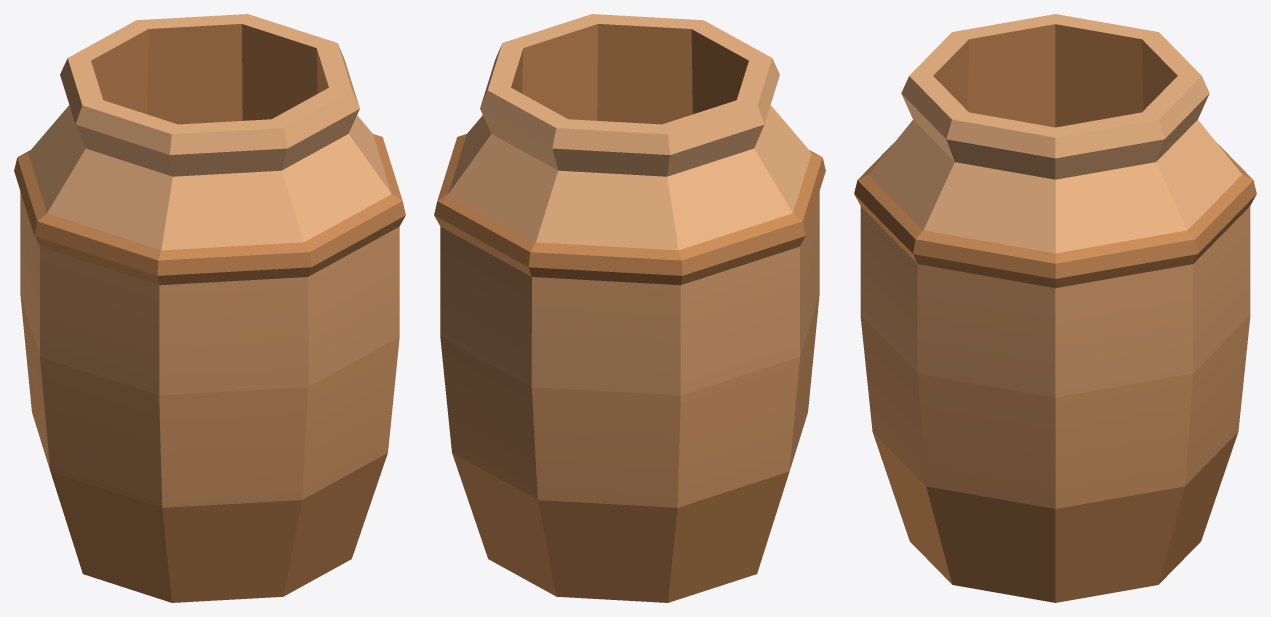
File: vase.fbx
3 views of the same model, side by side, from view 1: azimuth 30°, elevation 25°; view 2: azimuth 150°, elevation 25°; view 3: azimuth 270°, elevation 25° (orthographic).
Visible parts, largest first — view 1: vase; view 2: vase; view 3: vase.
Boxes of the visible parts, x1=… form: vase: x1=14, y1=14, x2=405, y2=602; vase: x1=434, y1=14, x2=825, y2=602; vase: x1=854, y1=14, x2=1256, y2=602.
Size of the model in its own units: 83.9 by 107 by 83.9.
